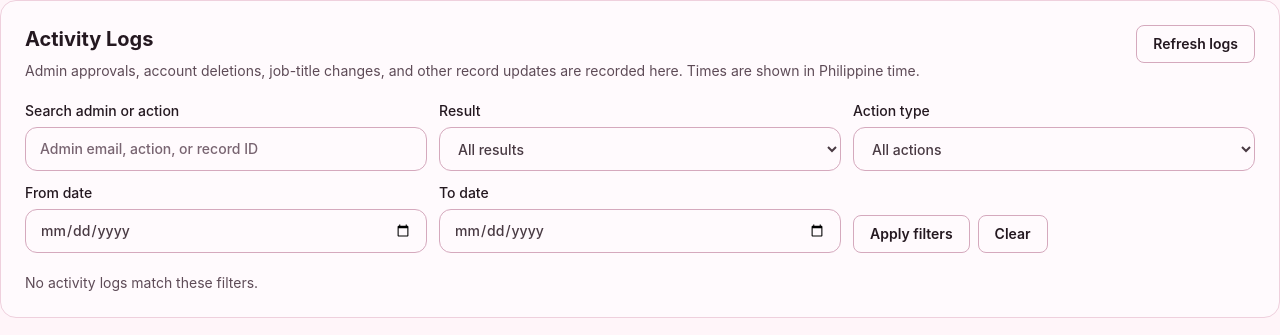
Test: shows empty results and errors without presenting stale activity
expect the text "No activity logs match these filters." is shown: met, box [25,274,258,291]
Click the button "Refresh logs" at (1196, 44), box [1136,25,1255,63]
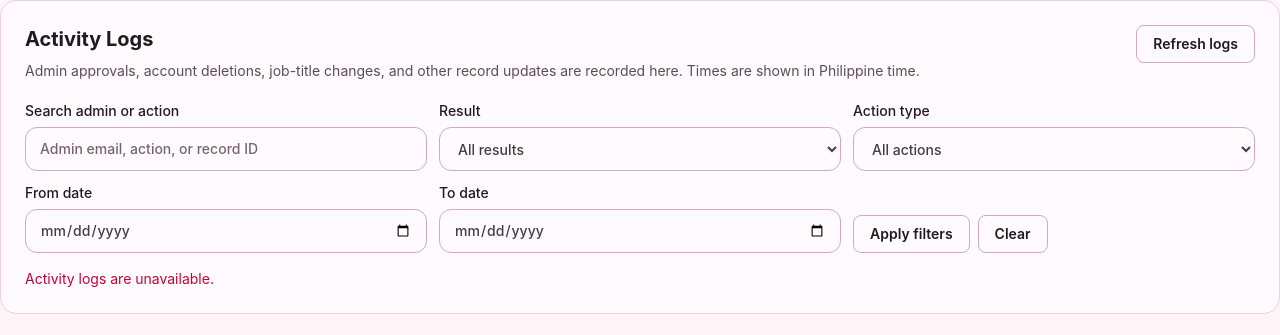
expect the message reads "Activity logs are unavailable.": met, box [25,270,214,287]
expect the text "No activity logs match these filters." is gone: met
